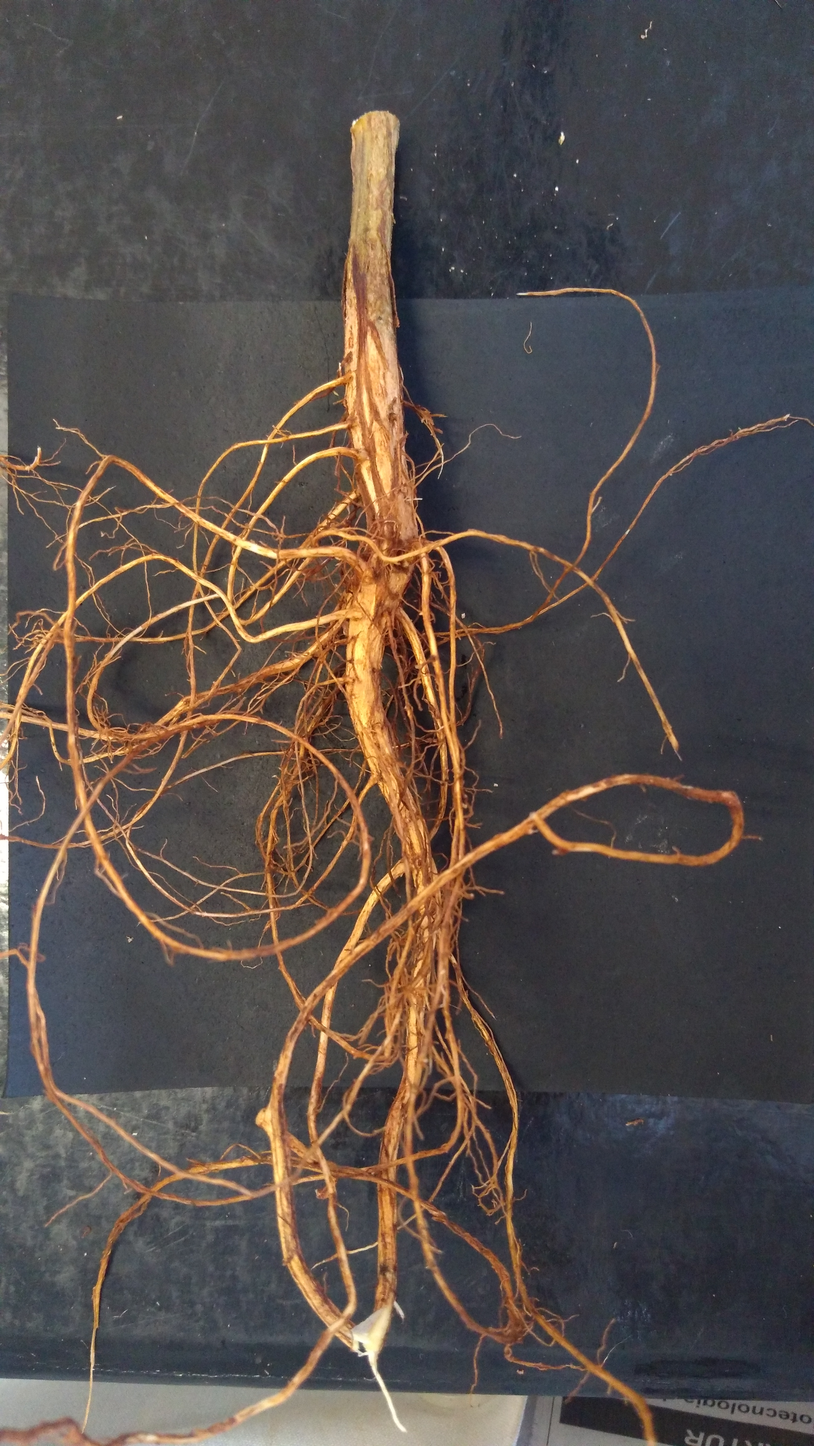nodule: (392, 491, 420, 541), (386, 570, 411, 596), (369, 551, 390, 573), (354, 564, 375, 584), (384, 509, 397, 539), (362, 537, 379, 557), (137, 720, 161, 734), (401, 549, 414, 569), (330, 633, 341, 647), (341, 619, 350, 636), (312, 647, 321, 657), (328, 522, 336, 528), (461, 612, 466, 619)
